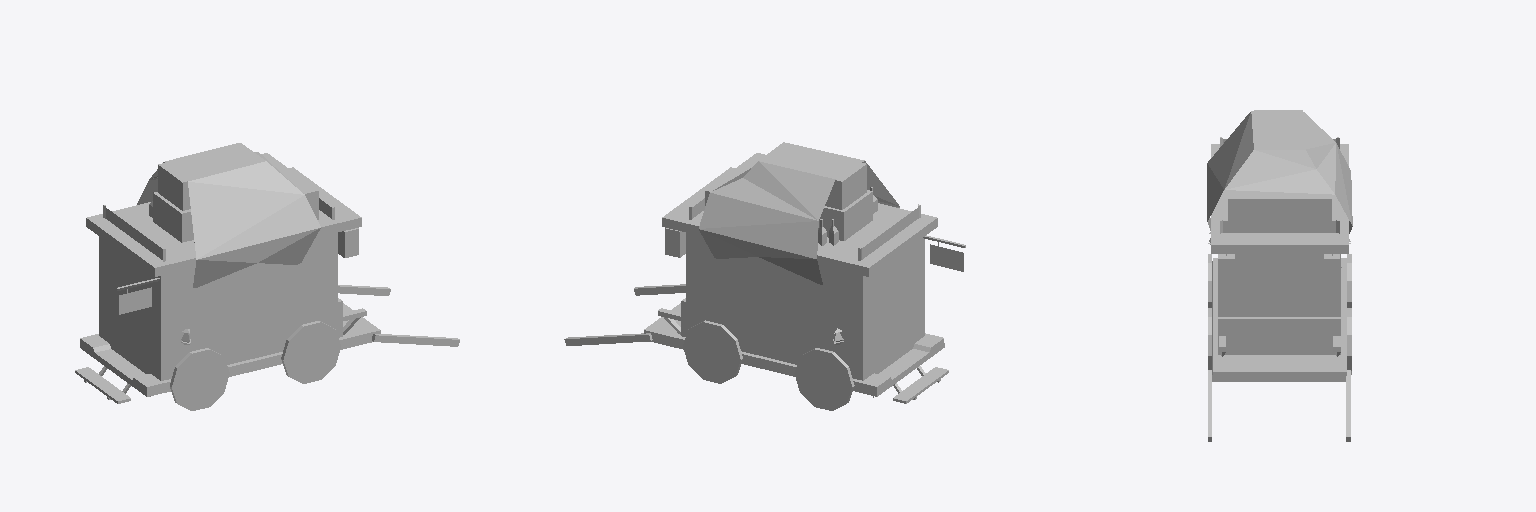
The model's file is m_had033.obj.
3 views of the same model, side by side, from view 1: azimuth 30°, elevation 25°; view 2: azimuth 150°, elevation 25°; view 3: azimuth 270°, elevation 25° (orthographic).
Parts seen in each view (by area): view 1: m_a; view 2: m_a; view 3: m_a.
Boxes of the visible parts, <box> form: m_a: <box>75,143,459,410</box>; m_a: <box>564,142,965,410</box>; m_a: <box>1207,110,1352,441</box>.
Size of the model in its own units: 45.66 by 27.25 by 17.12.